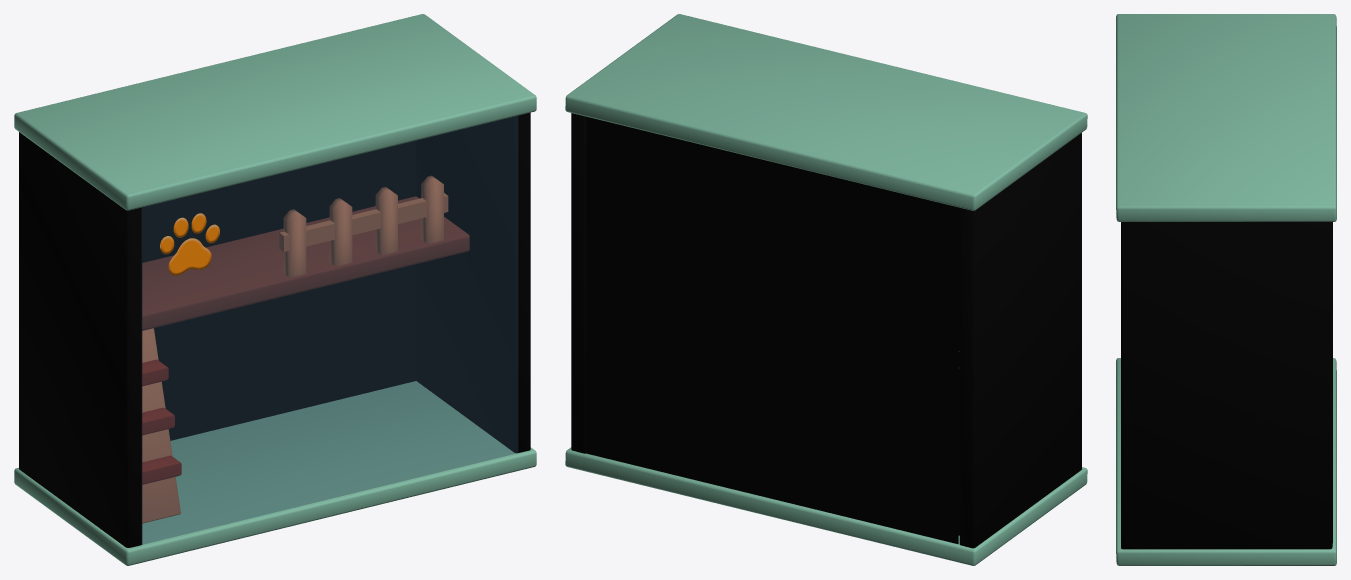
Rendered from SM_Props_Cat_Cage.fbx.
3 renders of one model, left to right at view 1: azimuth 30°, elevation 25°; view 2: azimuth 150°, elevation 25°; view 3: azimuth 270°, elevation 25°, orthographic. The views are drawn at different scales.
Parts seen in each view (by area): view 1: SM_Props_Cat_Cage; view 2: SM_Props_Cat_Cage; view 3: SM_Props_Cat_Cage.
Boxes of the visible parts, bbox=[...] form: SM_Props_Cat_Cage: bbox=[14, 14, 536, 565]; SM_Props_Cat_Cage: bbox=[565, 14, 1087, 565]; SM_Props_Cat_Cage: bbox=[1116, 14, 1336, 565].
Bounding box in the file's own units: 2.6 × 2.25 × 1.25.
